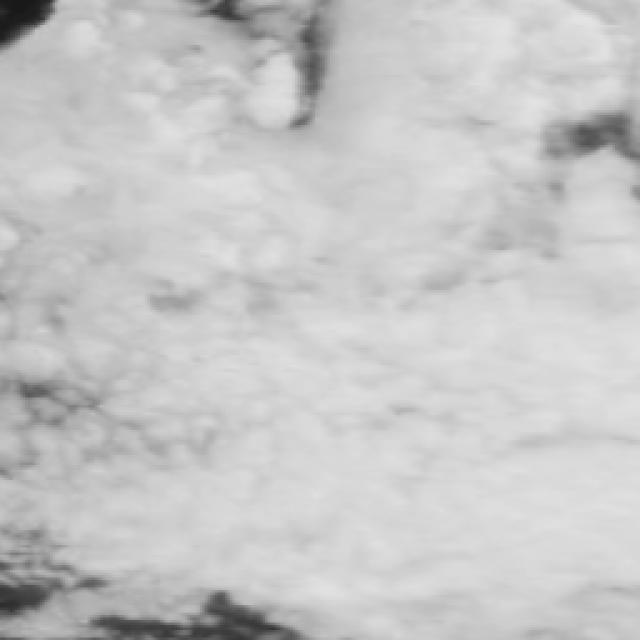CB: (6, 162, 207, 393), (159, 384, 367, 580), (32, 399, 244, 591), (326, 222, 506, 443), (190, 199, 370, 420), (27, 27, 234, 217), (329, 414, 498, 640), (346, 28, 494, 220), (487, 317, 640, 487), (490, 482, 640, 638)
